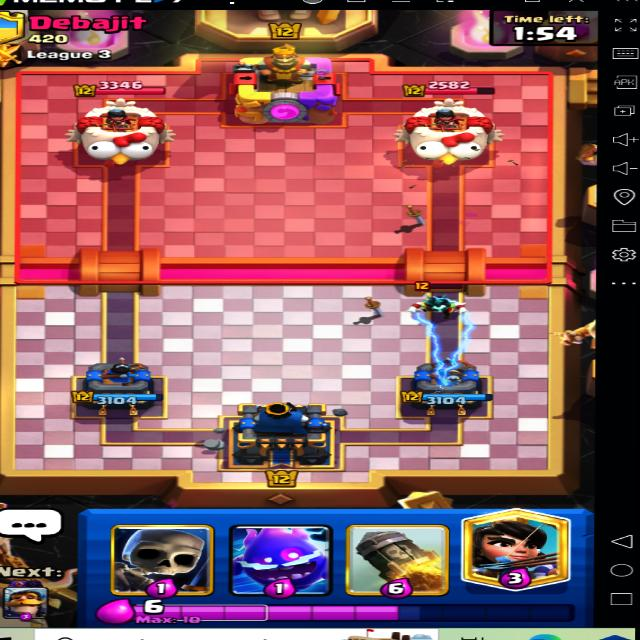electro-wizard: (413, 280, 479, 331)
